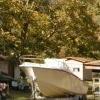Boat: (17, 50, 86, 100)
